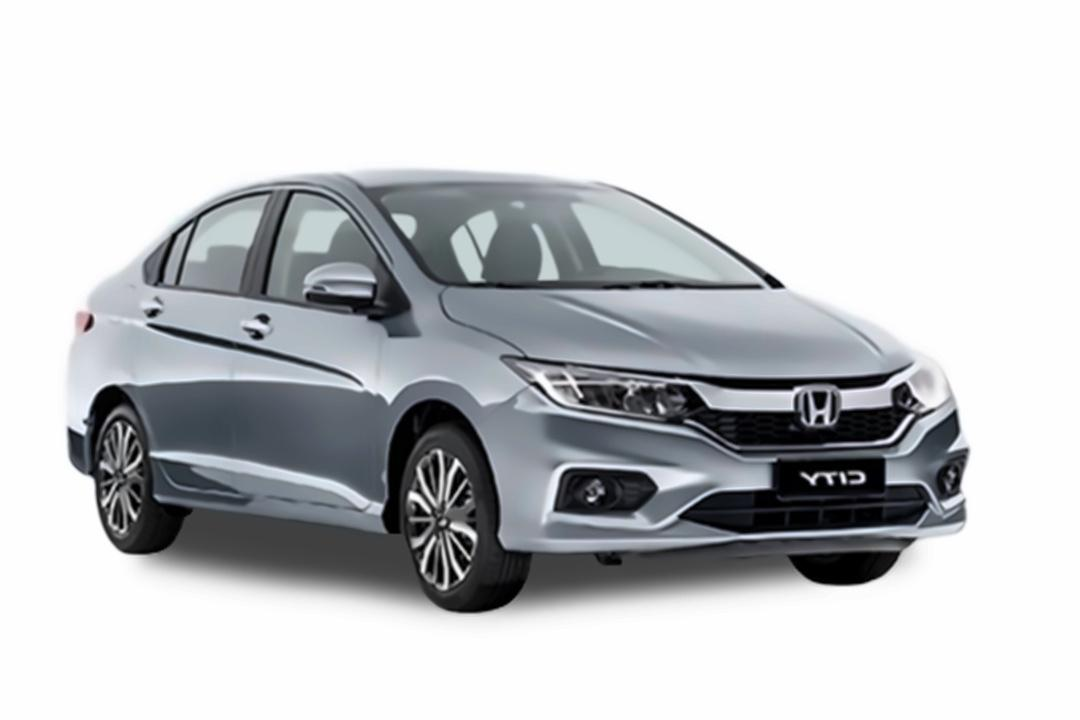Car hood: (436, 282, 920, 379)
Driver-s door - -F-R-: (226, 166, 393, 544)
Fender - -F-R-: (360, 260, 532, 495)
Fender - -R-R-: (64, 241, 165, 428)
Front bumper: (471, 380, 977, 565)
Headlight - -L-: (891, 353, 959, 418)
Headlight - -R-: (498, 349, 714, 430)
Passenger-s door - -R-R-: (132, 166, 290, 536)
Rear bumper: (52, 369, 103, 481)
Side bumper - -R-: (149, 465, 414, 542)
Side mirror - -R-: (299, 261, 401, 323)
